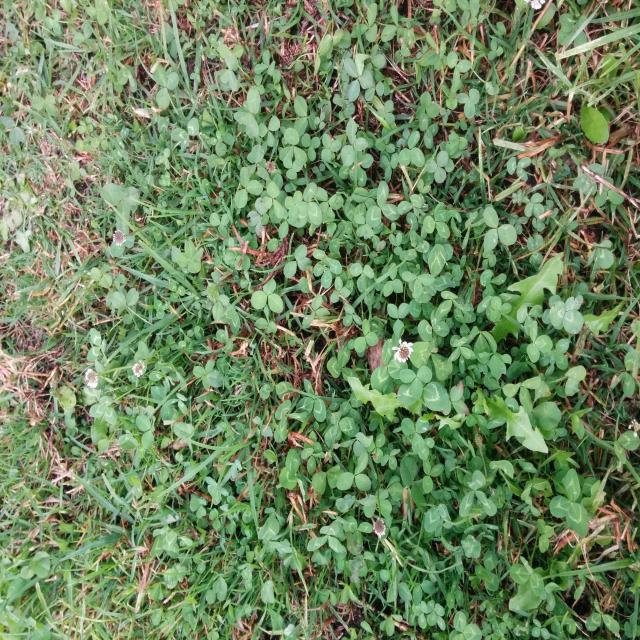Four Leaf Clover: (177, 239, 204, 273)
